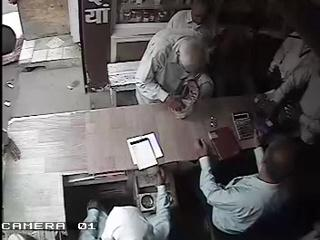Normal: (194, 136, 298, 240), (134, 28, 214, 120), (78, 178, 172, 240)
